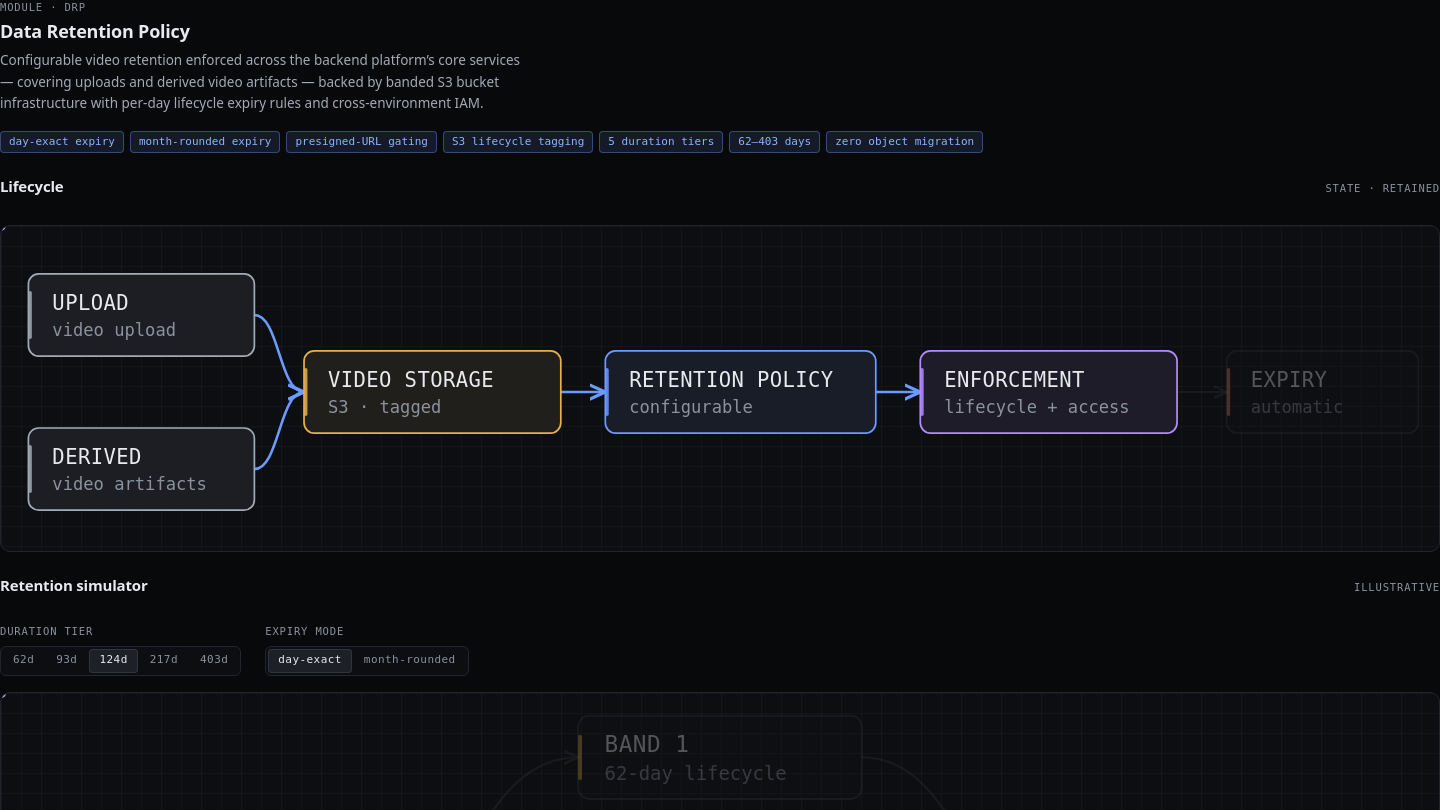
it: DRP simulator › switches between day-exact and month-rounded expiry
Click the radio button labelled "month-rounded".
click(410, 660)  # box left=354, top=648, right=466, bottom=672
(page scrolled)
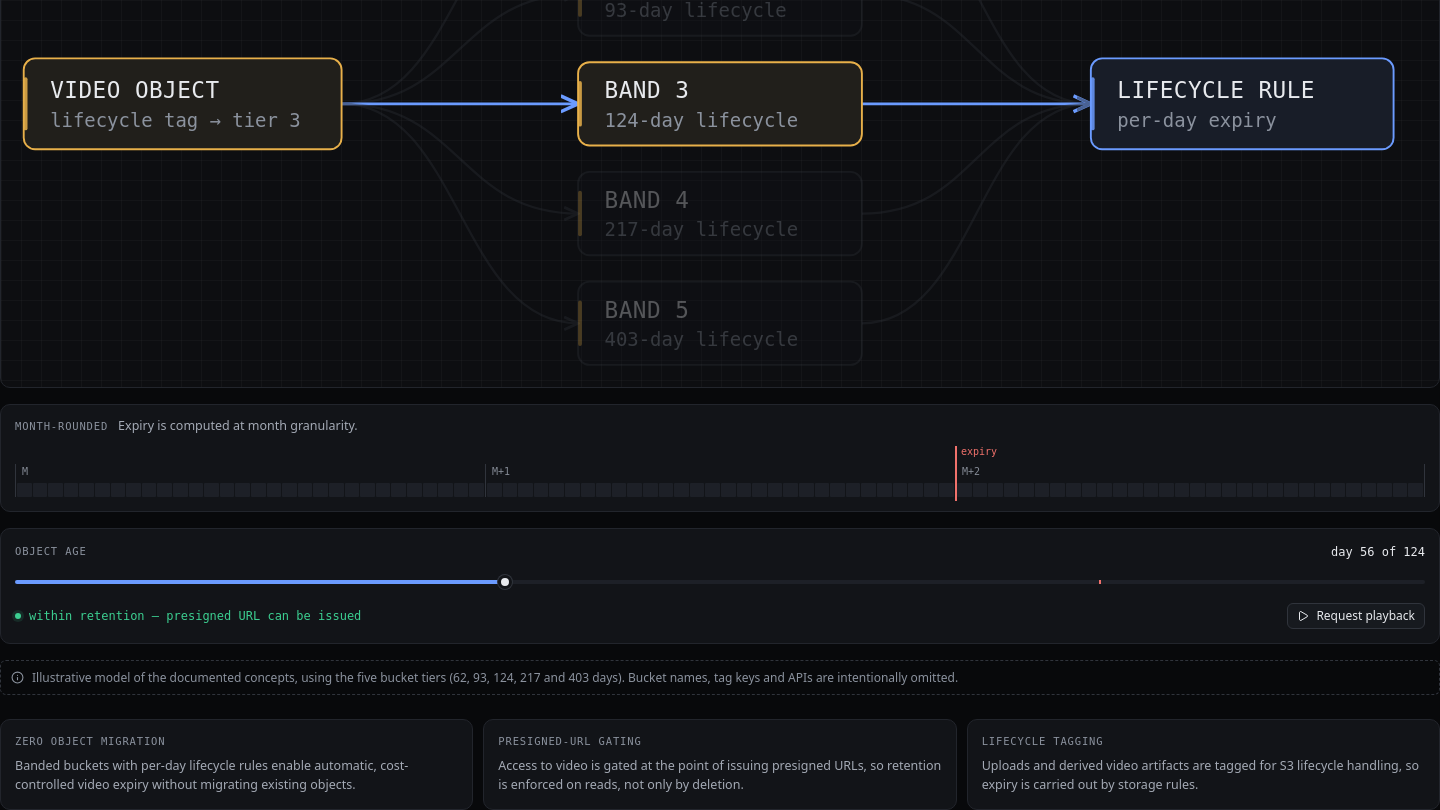
Now the text "Expiry is computed at month granularity." is shown, box left=118, top=417, right=358, bottom=436
